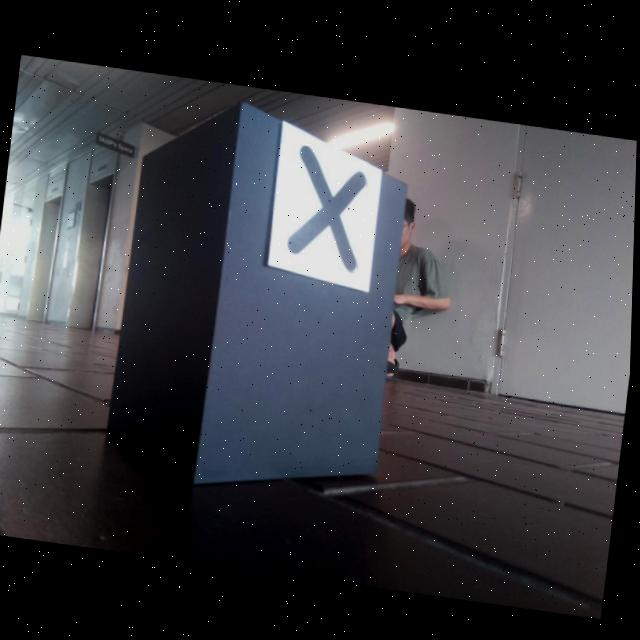X: (289, 143, 367, 267)
